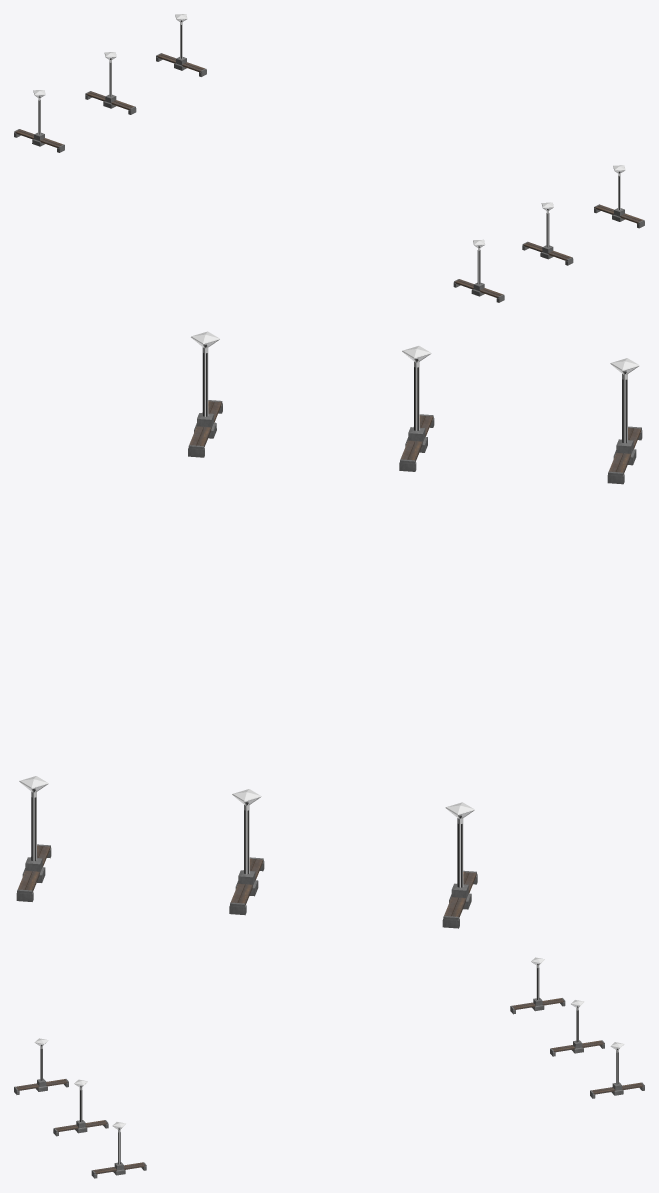
The model's file is lamp_GSM.FBX.
The picture shows the model from 3 angles, top to bottom: view 1: azimuth 30°, elevation 25°; view 2: azimuth 150°, elevation 25°; view 3: azimuth 270°, elevation 25°; orthographic projection. The views are drawn at different scales.
Size of the model in its own units: 2881 by 379 by 4371.
Materials: 5 (2 with a texture image).
